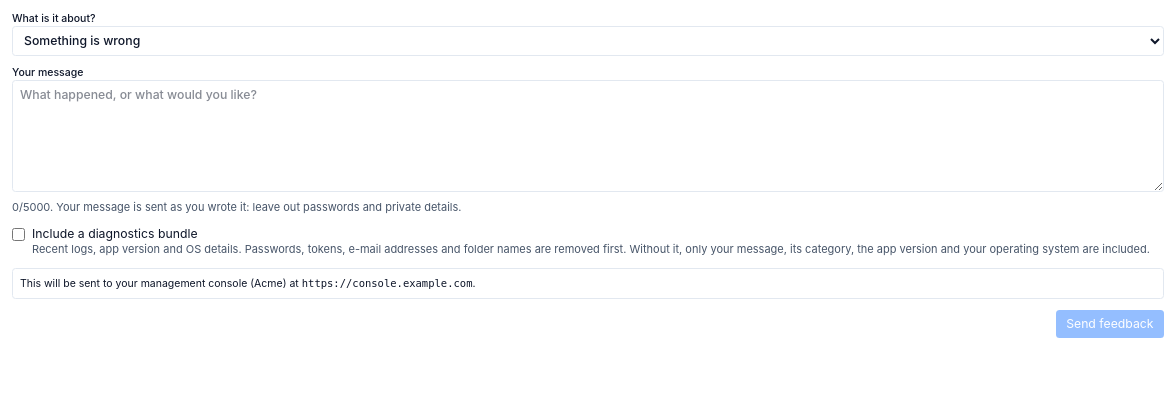
FeedbackForm with a console › does not say it was sent when the console refused, and offers a file instead
The width and height of the screenshot is (1176, 415).
Expected: the element with test id "feedback-destination" is shown, [12, 268, 1164, 299]
Type "Hello" into the text box labelled "message" at {"x": 588, "y": 136}, box [12, 80, 1164, 192]
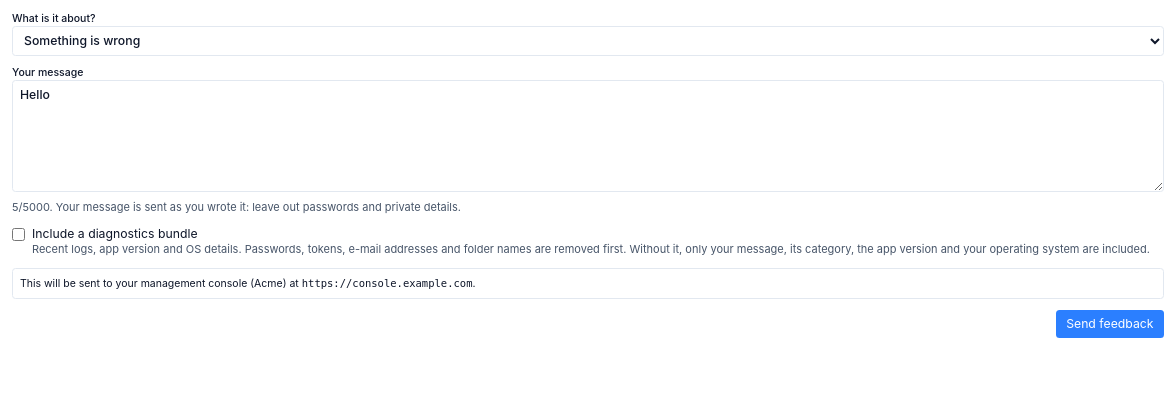
Click the button "Send feedback" at {"x": 1110, "y": 324}, box [1056, 310, 1164, 338]
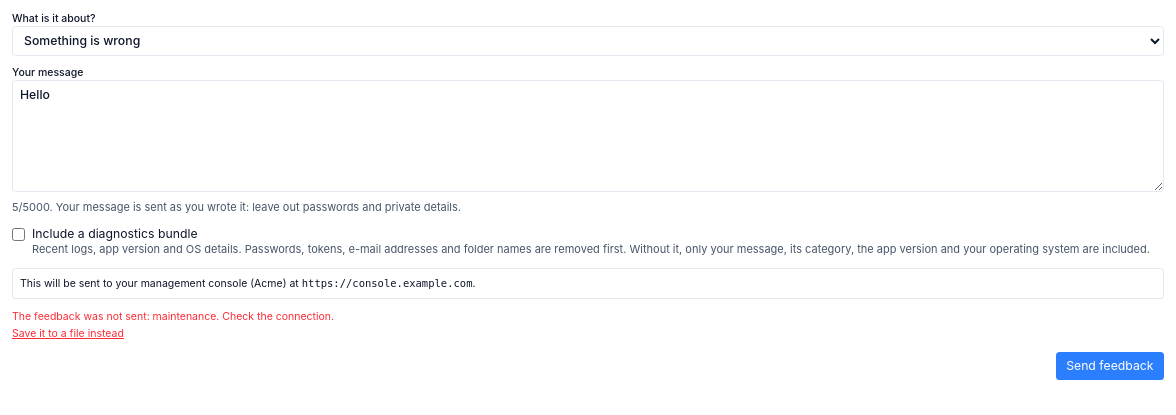
Expected: the message shows "The feedback was not sent", [12, 310, 334, 323]
Click the button "Save it to a file instead" at {"x": 68, "y": 334}, box [12, 327, 124, 341]
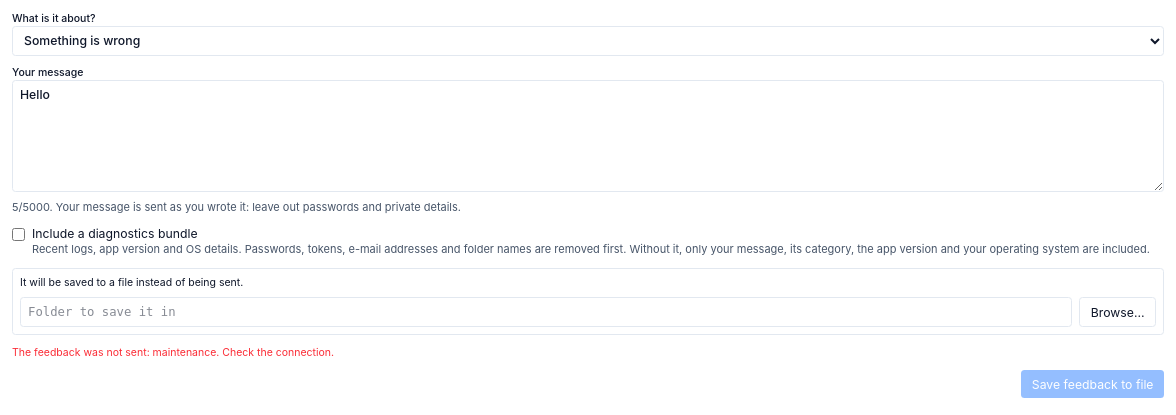
Expected: the element with test id "feedback-destination" shows "saved to a file instead of being sent", [20, 276, 243, 289]
Type "/Users/me/Desktop" into the field named "Folder to save the feedback" at {"x": 546, "y": 312}, box [20, 297, 1072, 327]
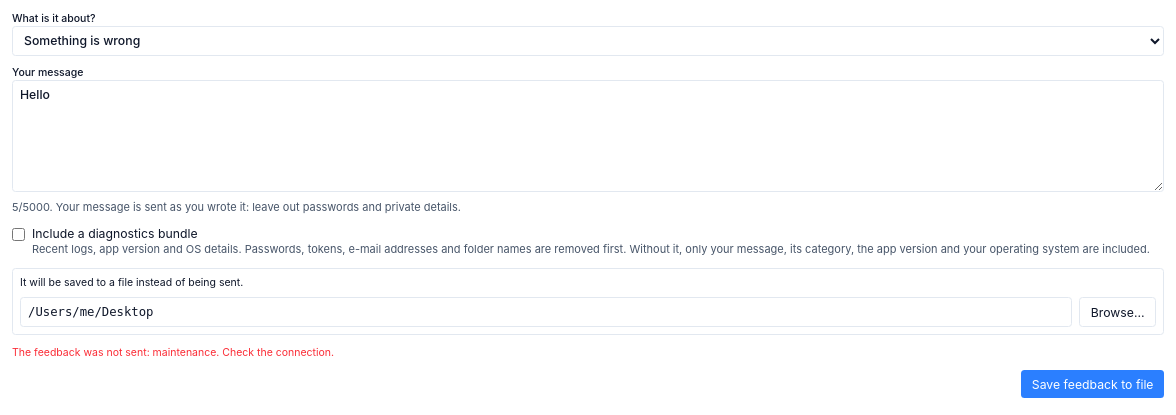
Click the button "Save feedback to file" at {"x": 1093, "y": 384}, box [1021, 370, 1164, 398]
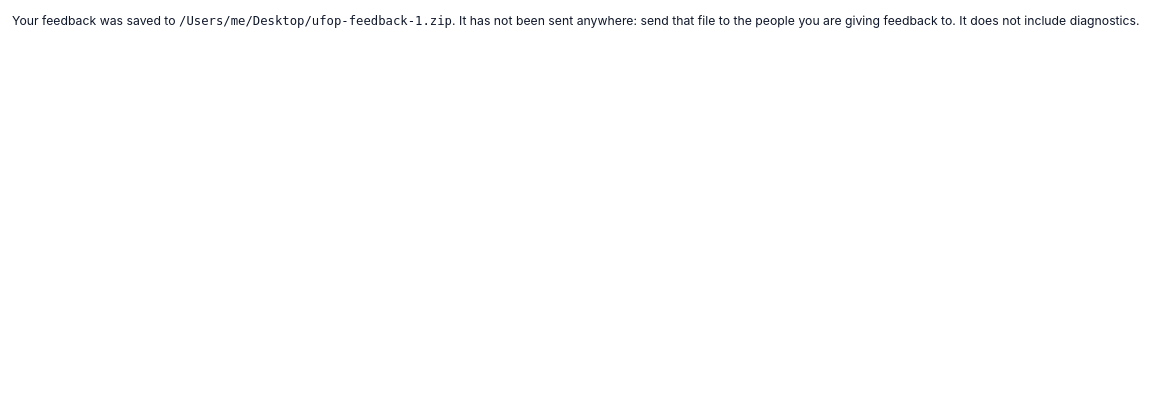
Expected: the element with test id "feedback-done" is shown, [12, 12, 1164, 30]
Expected: the message shows "has not been sent anywhere", [452, 13, 956, 28]
